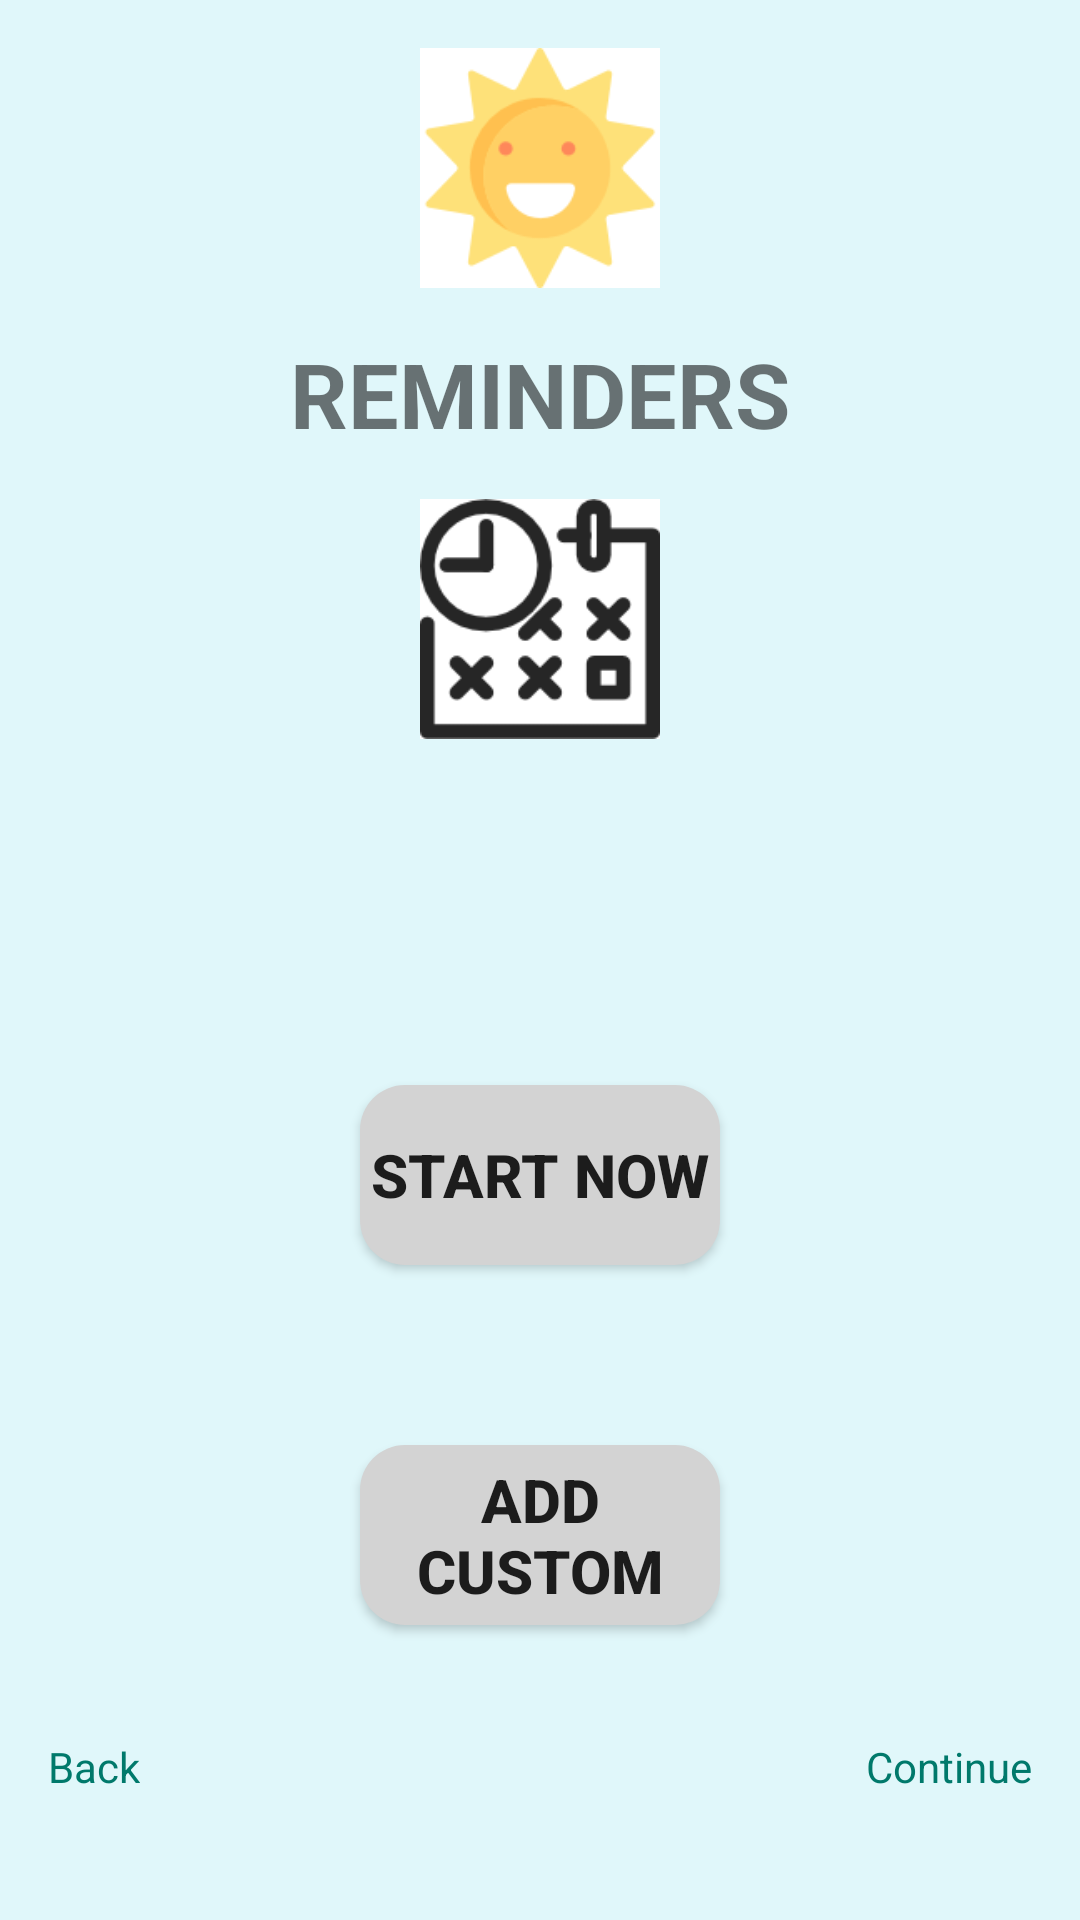

Where icons sit on this 1080 × 1920 app screen, as (left=x1, top=y1, right=x2, bottom=y2):
calendar: (left=420, top=499, right=660, bottom=739)
sun: (left=420, top=48, right=660, bottom=288)
